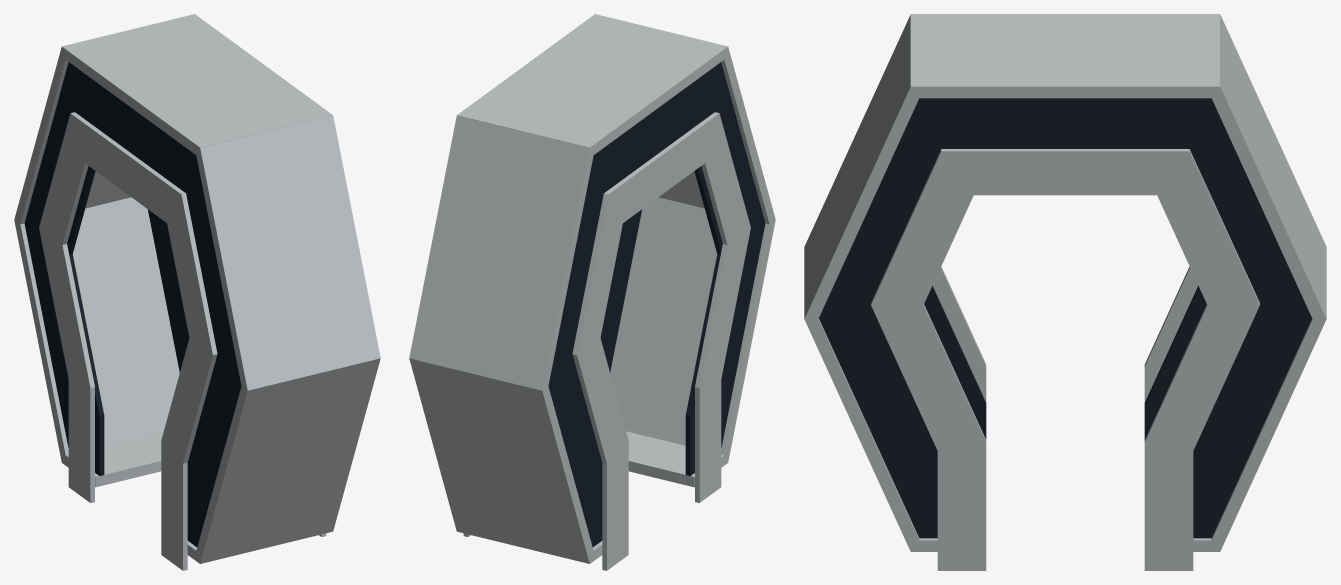
Rendered from clu_door_frame.obj.
The picture shows the model from 3 angles, left to right: view 1: azimuth 30°, elevation 25°; view 2: azimuth 150°, elevation 25°; view 3: azimuth 270°, elevation 25°; orthographic projection. The views are drawn at different scales.
Parts seen in each view (by area): view 1: cube022_cube.022, cube046_cube.046, cube010_cube.010, cube011_cube.011, cube023_cube.023, cube012_cube.012, cube047_cube.000, cube014_cube.014, cube043_cube.043, cube032_cube.032, cube039_cube.039, cube004_cube.004 (+14 smaller); view 2: cube034_cube.034, cube010_cube.010, cube046_cube.046, cube023_cube.023, cube011_cube.011, cube004_cube.004, cube047_cube.000, cube039_cube.039, cube043_cube.043, cube032_cube.032, cube014_cube.014, cube038_cube.038 (+13 smaller); view 3: cube023_cube.023, cube011_cube.011, cube022_cube.022, cube034_cube.034, cube007_cube.007, cube040_cube.040, cube021_cube.021, cube003_cube.003, cube020_cube.020, cube024_cube.024, cube036_cube.036, cube026_cube.026 (+16 smaller).
Part boxes in pixels (bbox=[...]): cube022_cube.022: bbox=[196, 115, 380, 390]; cube046_cube.046: bbox=[196, 358, 380, 563]; cube010_cube.010: bbox=[14, 197, 179, 462]; cube011_cube.011: bbox=[131, 64, 332, 157]; cube023_cube.023: bbox=[62, 14, 263, 106]; cube012_cube.012: bbox=[161, 193, 217, 355]; cube047_cube.000: bbox=[39, 227, 94, 388]; cube014_cube.014: bbox=[185, 192, 241, 388]; cube043_cube.043: bbox=[187, 371, 240, 518]; cube032_cube.032: bbox=[39, 114, 90, 256]; cube039_cube.039: bbox=[161, 326, 217, 463]; cube004_cube.004: bbox=[24, 220, 103, 416]; cube034_cube.034: bbox=[409, 115, 593, 390]; cube010_cube.010: bbox=[409, 358, 593, 563]; cube046_cube.046: bbox=[610, 197, 775, 462]; cube023_cube.023: bbox=[457, 64, 658, 157]; cube011_cube.011: bbox=[526, 14, 728, 106]; cube004_cube.004: bbox=[548, 335, 602, 518]; cube047_cube.000: bbox=[572, 326, 628, 469]; cube039_cube.039: bbox=[695, 227, 750, 387]; cube043_cube.043: bbox=[686, 220, 764, 416]; cube032_cube.032: bbox=[572, 193, 627, 354]; cube014_cube.014: bbox=[694, 86, 765, 254]; cube038_cube.038: bbox=[695, 372, 721, 502]; cube023_cube.023: bbox=[1065, 14, 1219, 98]; cube011_cube.011: bbox=[911, 14, 1065, 98]; cube022_cube.022: bbox=[804, 14, 921, 323]; cube034_cube.034: bbox=[1209, 14, 1326, 318]; cube007_cube.007: bbox=[1193, 292, 1311, 501]; cube040_cube.040: bbox=[820, 295, 937, 501]; cube021_cube.021: bbox=[819, 150, 934, 346]; cube003_cube.003: bbox=[1144, 288, 1259, 458]; cube020_cube.020: bbox=[871, 149, 985, 321]; cube024_cube.024: bbox=[1145, 149, 1259, 316]; cube036_cube.036: bbox=[871, 291, 986, 458]; cube026_cube.026: bbox=[1183, 133, 1308, 322].
Bounding box in the file's own units: 1.72 × 4.96 × 4.87.
